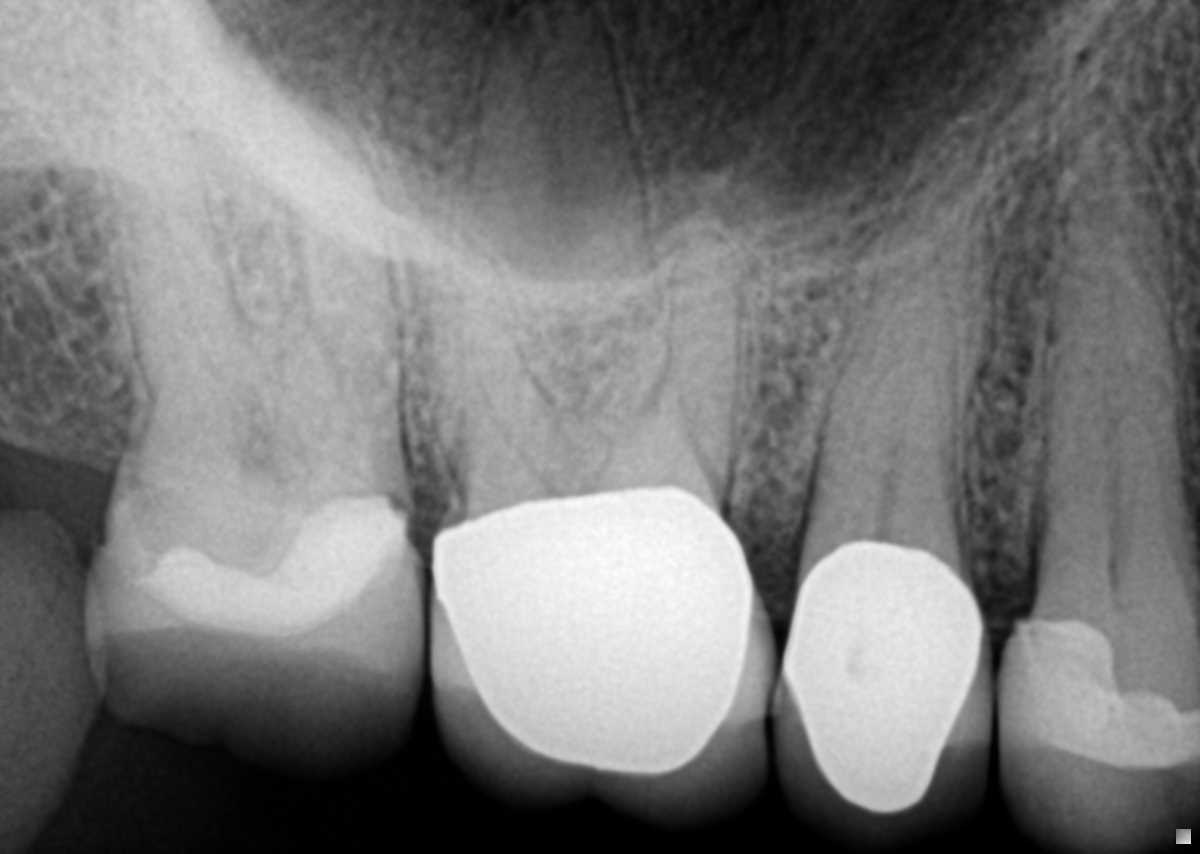Distal Canal: (146, 132, 238, 401), (470, 338, 543, 475)
Distal Root: (396, 204, 573, 496), (114, 89, 254, 389)
Main Canal: (871, 339, 924, 547), (1099, 245, 1131, 568)
Main Root: (1037, 91, 1200, 573), (803, 178, 996, 567)
Mesial Root: (270, 95, 397, 414), (628, 234, 738, 486)
Palatal Root: (446, 0, 705, 504)
